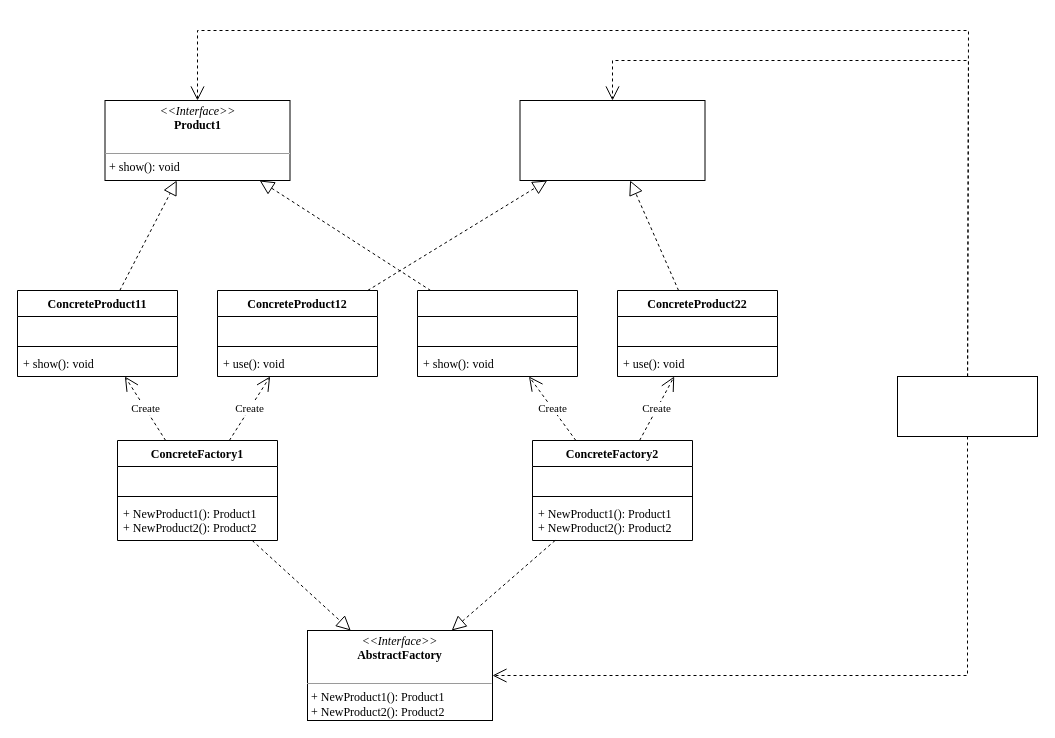
This 1055x738 diagram has some shape labels left out. Here are the shapes that lost their labels. From the top down, the box of each, then its label:
(519, 100, 705, 180): <<Interface>> Product2 + use(): void
(416, 290, 578, 376): ConcreteProduct21
(896, 376, 1038, 436): Client
